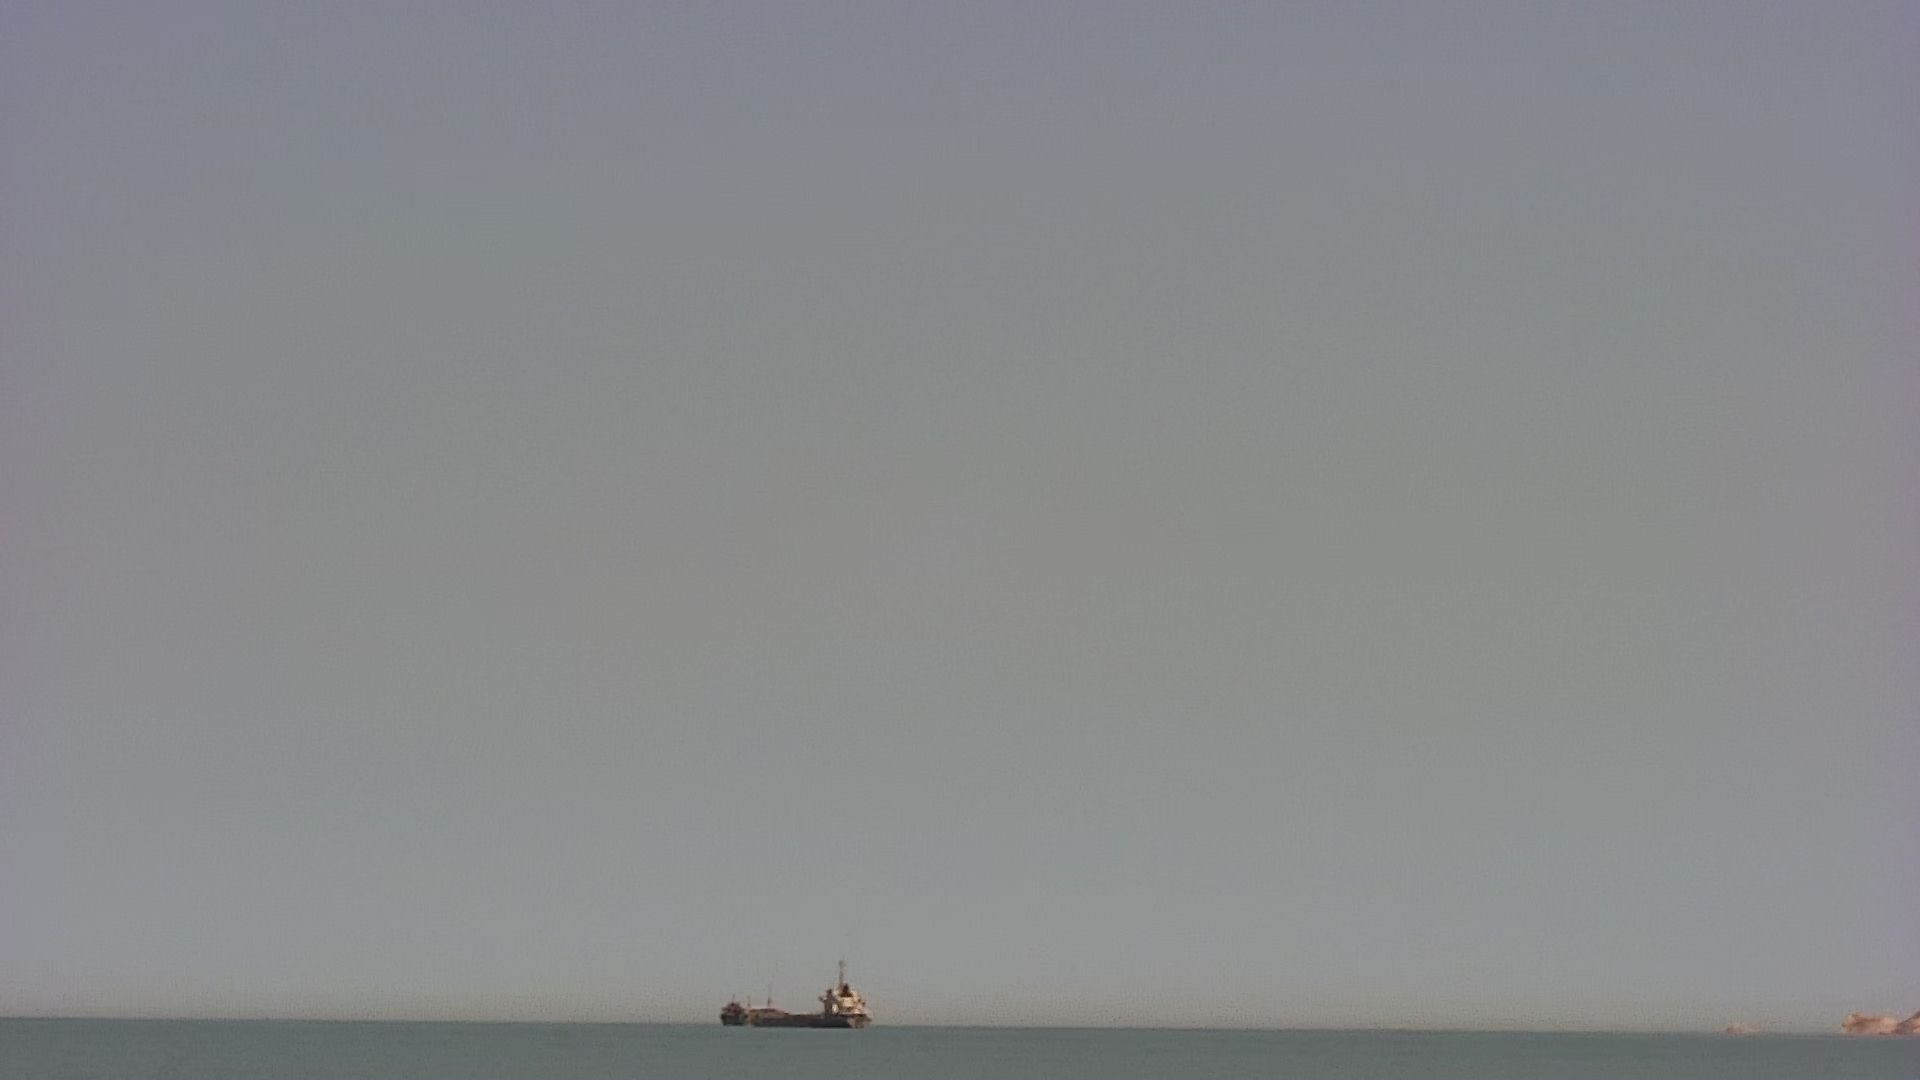ship: (715, 971, 874, 1033)
